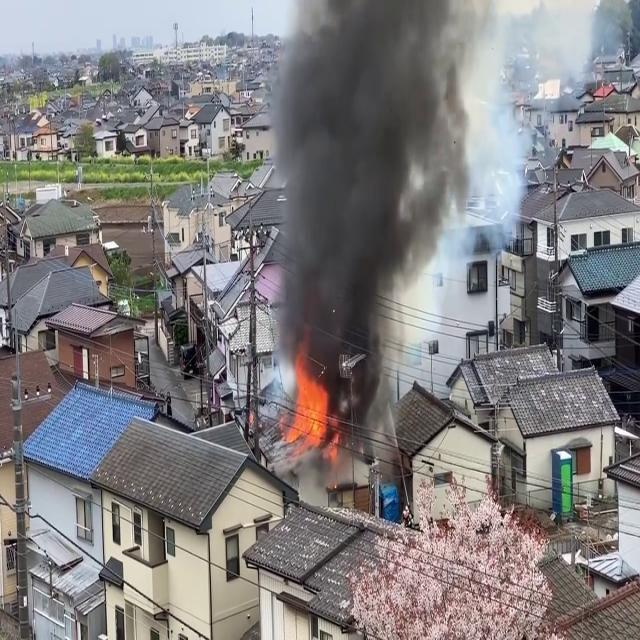Fire: (282, 356, 338, 458)
Smoke: (258, 0, 476, 399)
